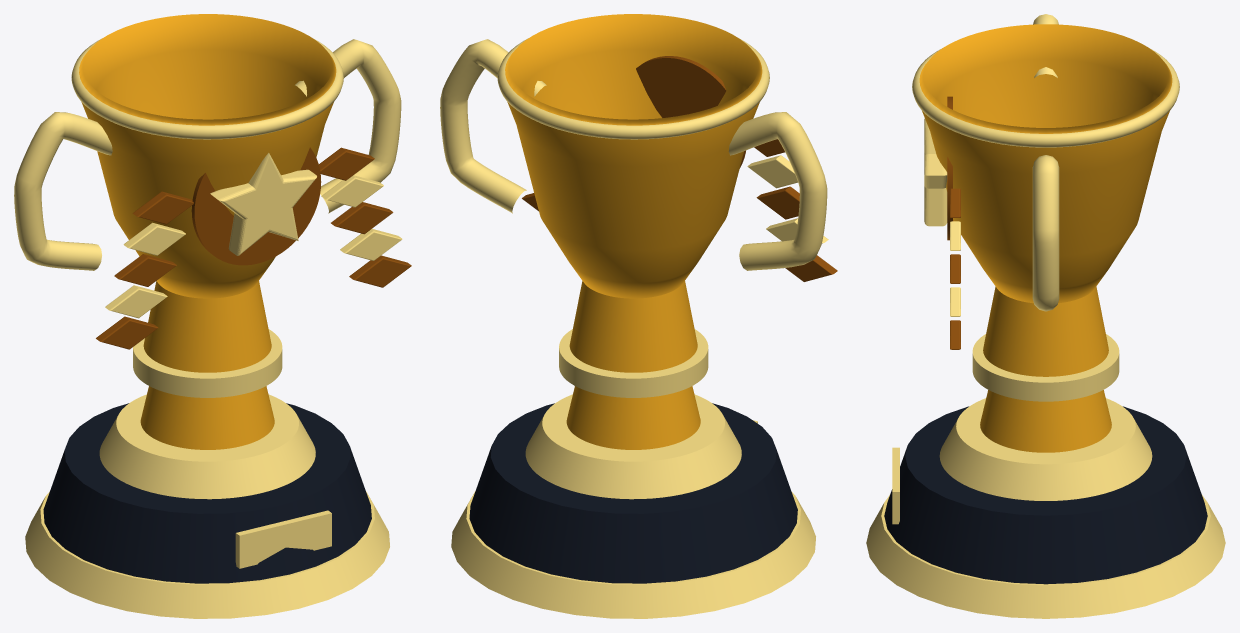
Rendered from trophy-high.glb.
3 renders of one model, left to right at view 1: azimuth 30°, elevation 25°; view 2: azimuth 150°, elevation 25°; view 3: azimuth 270°, elevation 25°, orthographic.
Parts seen in each view (by area): view 1: Hollow lathed trophy bowl, Black polygonal pedestal, Gold pedestal foot, Pedestal shoulder, Tapered trophy neck, Left curled trophy handle, Trophy stem, Raised five-point trophy star, Right curled trophy handle, Dark star medallion inset, Continuous cup lip, Trophy neck collar (+11 smaller); view 2: Hollow lathed trophy bowl, Black polygonal pedestal, Gold pedestal foot, Pedestal shoulder, Tapered trophy neck, Left curled trophy handle, Trophy stem, Right curled trophy handle, Continuous cup lip, Trophy neck collar, Dark star medallion inset, Left laurel leaf 2 (+2 smaller); view 3: Hollow lathed trophy bowl, Black polygonal pedestal, Gold pedestal foot, Pedestal shoulder, Tapered trophy neck, Trophy stem, Continuous cup lip, Trophy neck collar, Right curled trophy handle, Raised five-point trophy star, Blank gold award plate.
Boxes of the visible parts, <box> form: Hollow lathed trophy bowl: <box>79,14,336,298</box>; Black polygonal pedestal: <box>43,403,371,583</box>; Gold pedestal foot: <box>25,491,389,618</box>; Pedestal shoulder: <box>99,394,315,499</box>; Tapered trophy neck: <box>143,281,271,372</box>; Left curled trophy handle: <box>14,112,112,270</box>; Trophy stem: <box>140,386,274,449</box>; Raised five-point trophy star: <box>210,153,316,255</box>; Right curled trophy handle: <box>295,39,401,213</box>; Dark star medallion inset: <box>191,147,321,265</box>; Continuous cup lip: <box>71,38,343,139</box>; Trophy neck collar: <box>133,329,282,397</box>; Hollow lathed trophy bowl: <box>505,14,762,298</box>; Black polygonal pedestal: <box>469,403,797,583</box>; Gold pedestal foot: <box>451,491,815,618</box>; Pedestal shoulder: <box>525,394,741,499</box>; Tapered trophy neck: <box>569,281,697,372</box>; Left curled trophy handle: <box>728,112,827,270</box>; Trophy stem: <box>566,386,700,449</box>; Right curled trophy handle: <box>440,39,546,213</box>; Continuous cup lip: <box>497,38,769,139</box>; Trophy neck collar: <box>559,329,708,397</box>; Dark star medallion inset: <box>636,56,745,168</box>; Left laurel leaf 2: <box>747,155,797,188</box>; Hollow lathed trophy bowl: <box>919,24,1172,303</box>; Black polygonal pedestal: <box>884,406,1207,584</box>; Gold pedestal foot: <box>866,495,1225,618</box>; Pedestal shoulder: <box>939,398,1152,500</box>; Tapered trophy neck: <box>983,286,1108,376</box>; Trophy stem: <box>980,390,1111,452</box>; Continuous cup lip: <box>912,48,1179,147</box>; Trophy neck collar: <box>972,334,1119,401</box>; Right curled trophy handle: <box>1032,155,1059,311</box>; Raised five-point trophy star: <box>924,118,947,226</box>; Blank gold award plate: <box>892,447,899,524</box>.
Size of the model in its own units: 1.45 by 1.72 by 1.2.
